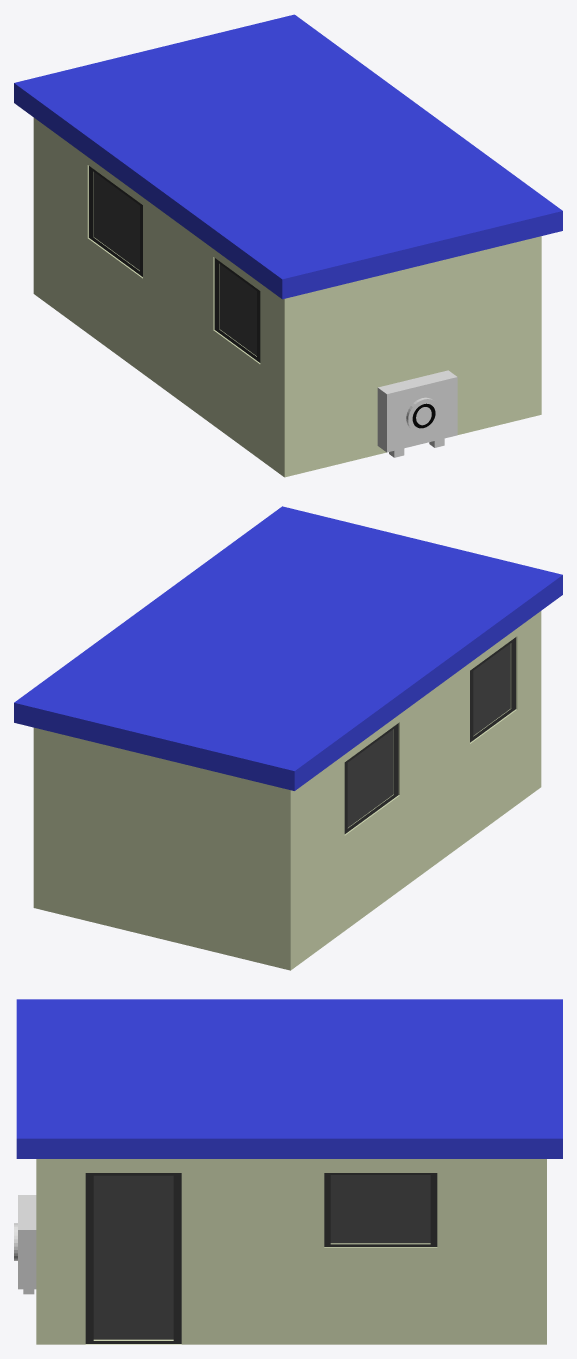
The model's file is minioffice1.fbx.
3 renders of one model, top to bottom at view 1: azimuth 30°, elevation 25°; view 2: azimuth 150°, elevation 25°; view 3: azimuth 270°, elevation 25°, orthographic.
Visible parts, largest first — view 1: main, cooler; view 2: main; view 3: main, cooler.
Boxes of the visible parts, left/top/right/bottom form: main: left=14, top=14, right=562, bottom=477; cooler: left=377, top=370, right=457, bottom=457; main: left=14, top=506, right=562, bottom=970; main: left=16, top=999, right=562, bottom=1344; cooler: left=14, top=1195, right=36, bottom=1294.
Size of the model in its own units: 11293 by 8036 by 18795.
